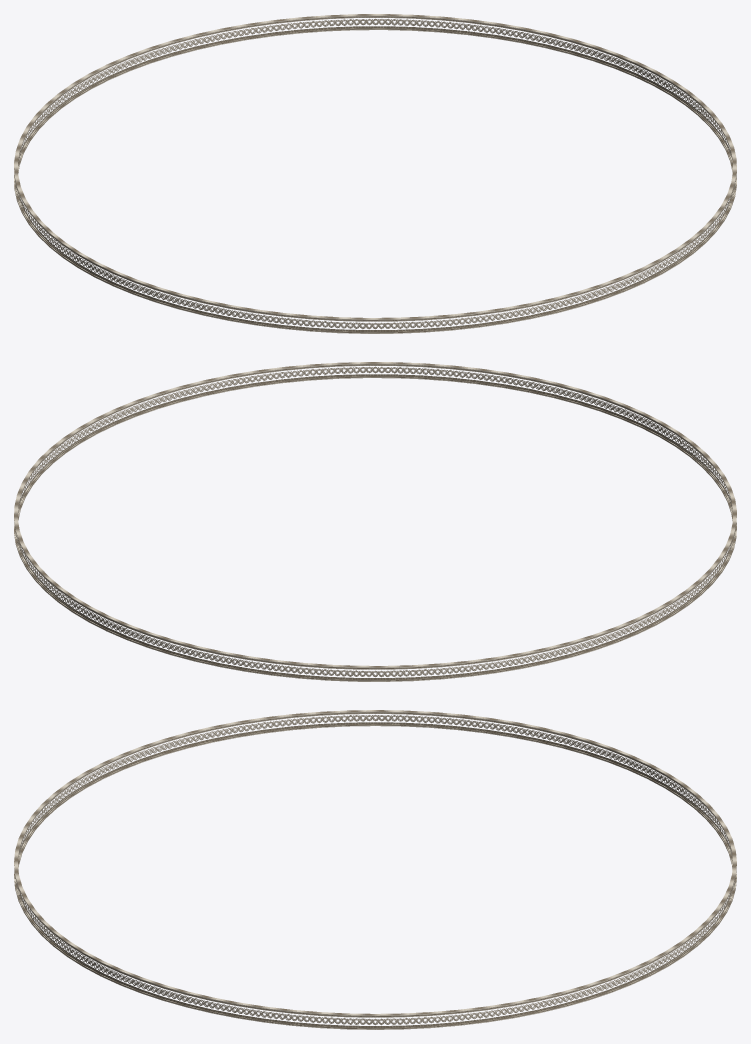
Rendered from ring_7.obj.
3 renders of one model, top to bottom at view 1: azimuth 30°, elevation 25°; view 2: azimuth 150°, elevation 25°; view 3: azimuth 270°, elevation 25°, orthographic.
Size of the model in its own units: 51.84 by 1.14 by 51.84.
